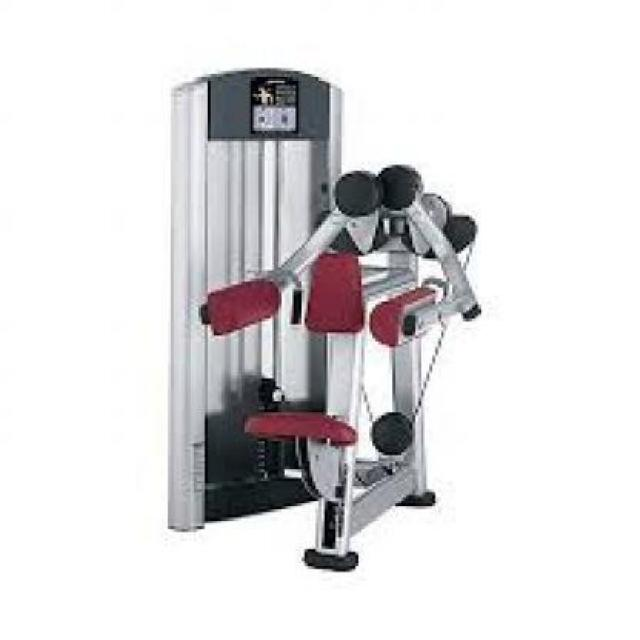lateral raises machine: (172, 67, 486, 576)
